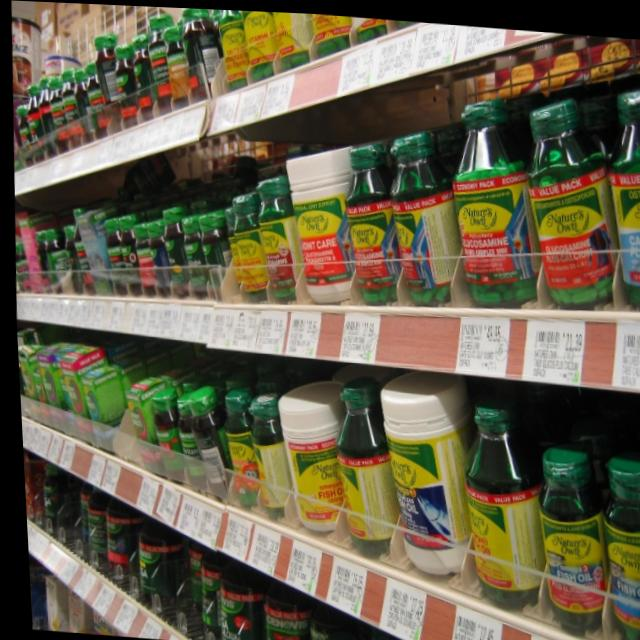q4: (432, 81, 537, 291), (518, 94, 619, 304), (524, 428, 607, 624), (382, 124, 455, 290), (328, 139, 397, 290), (603, 83, 640, 299)
